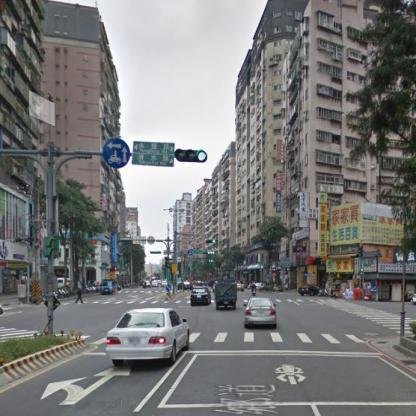Green Light: (176, 146, 207, 164), (204, 238, 216, 245)
